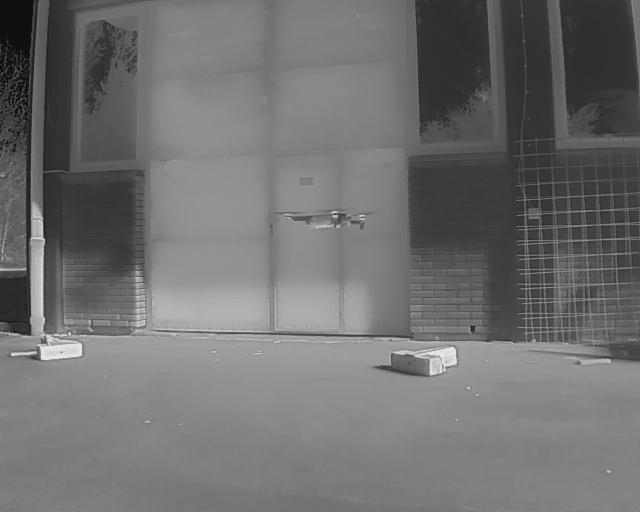drone: (268, 191, 387, 245)
